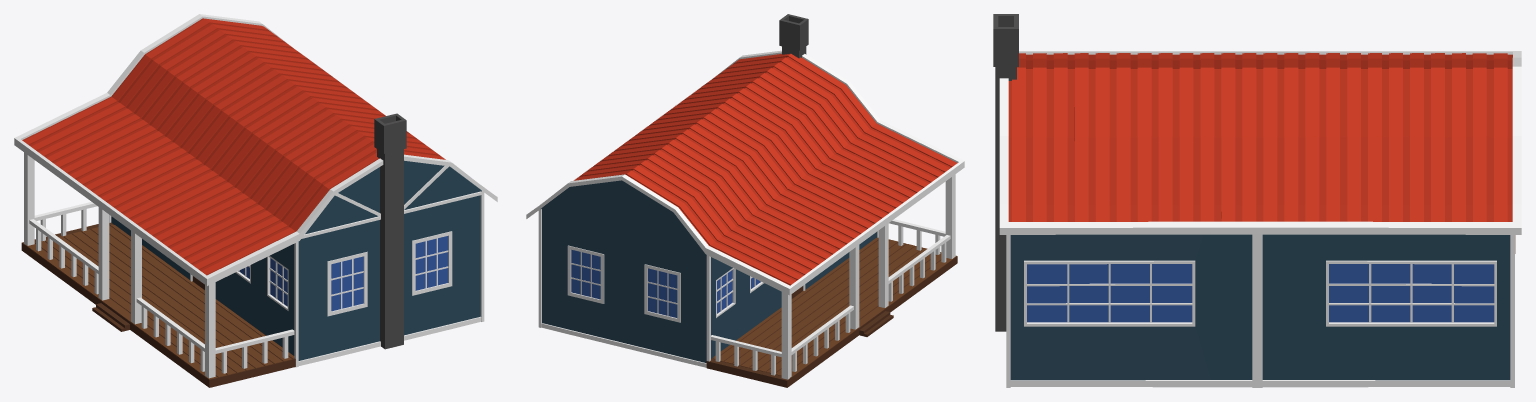
The model's file is FarmHouse_3.fbx.
3 views of the same model, side by side, from view 1: azimuth 30°, elevation 25°; view 2: azimuth 150°, elevation 25°; view 3: azimuth 270°, elevation 25° (orthographic). The views are drawn at different scales.
Visible parts, largest first — view 1: FarmHouse_3; view 2: FarmHouse_3; view 3: FarmHouse_3.
Part boxes in pixels (x1,y1,x2,y2): FarmHouse_3: (14, 14, 497, 387); FarmHouse_3: (526, 14, 964, 387); FarmHouse_3: (993, 14, 1521, 387).
Bounding box in the file's own units: 586 × 428 × 674.
